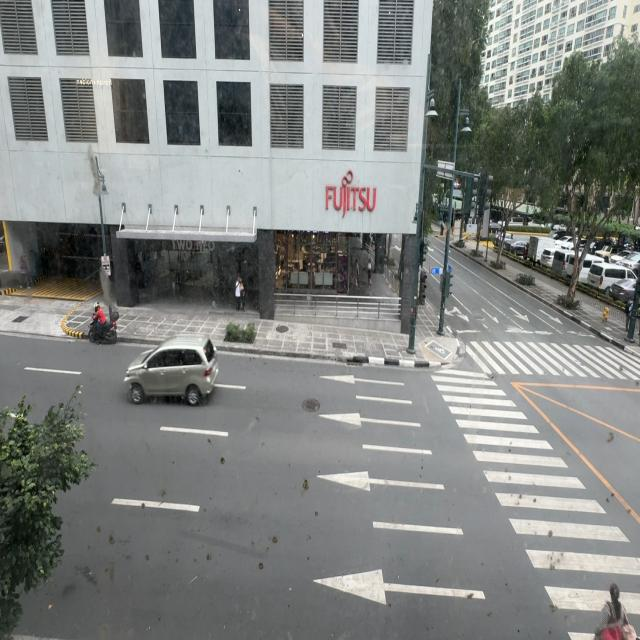crossing: (589, 568, 625, 640), (593, 583, 638, 638)
